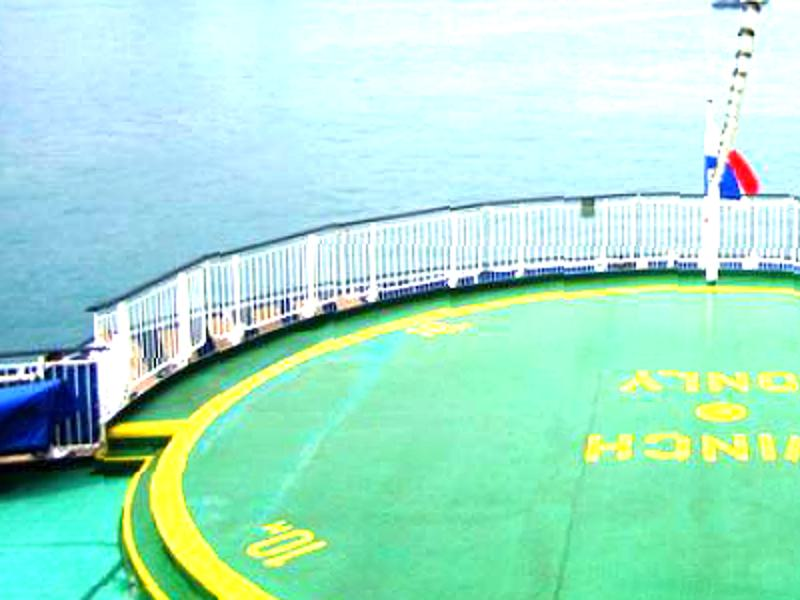Apron: (139, 280, 800, 600)
